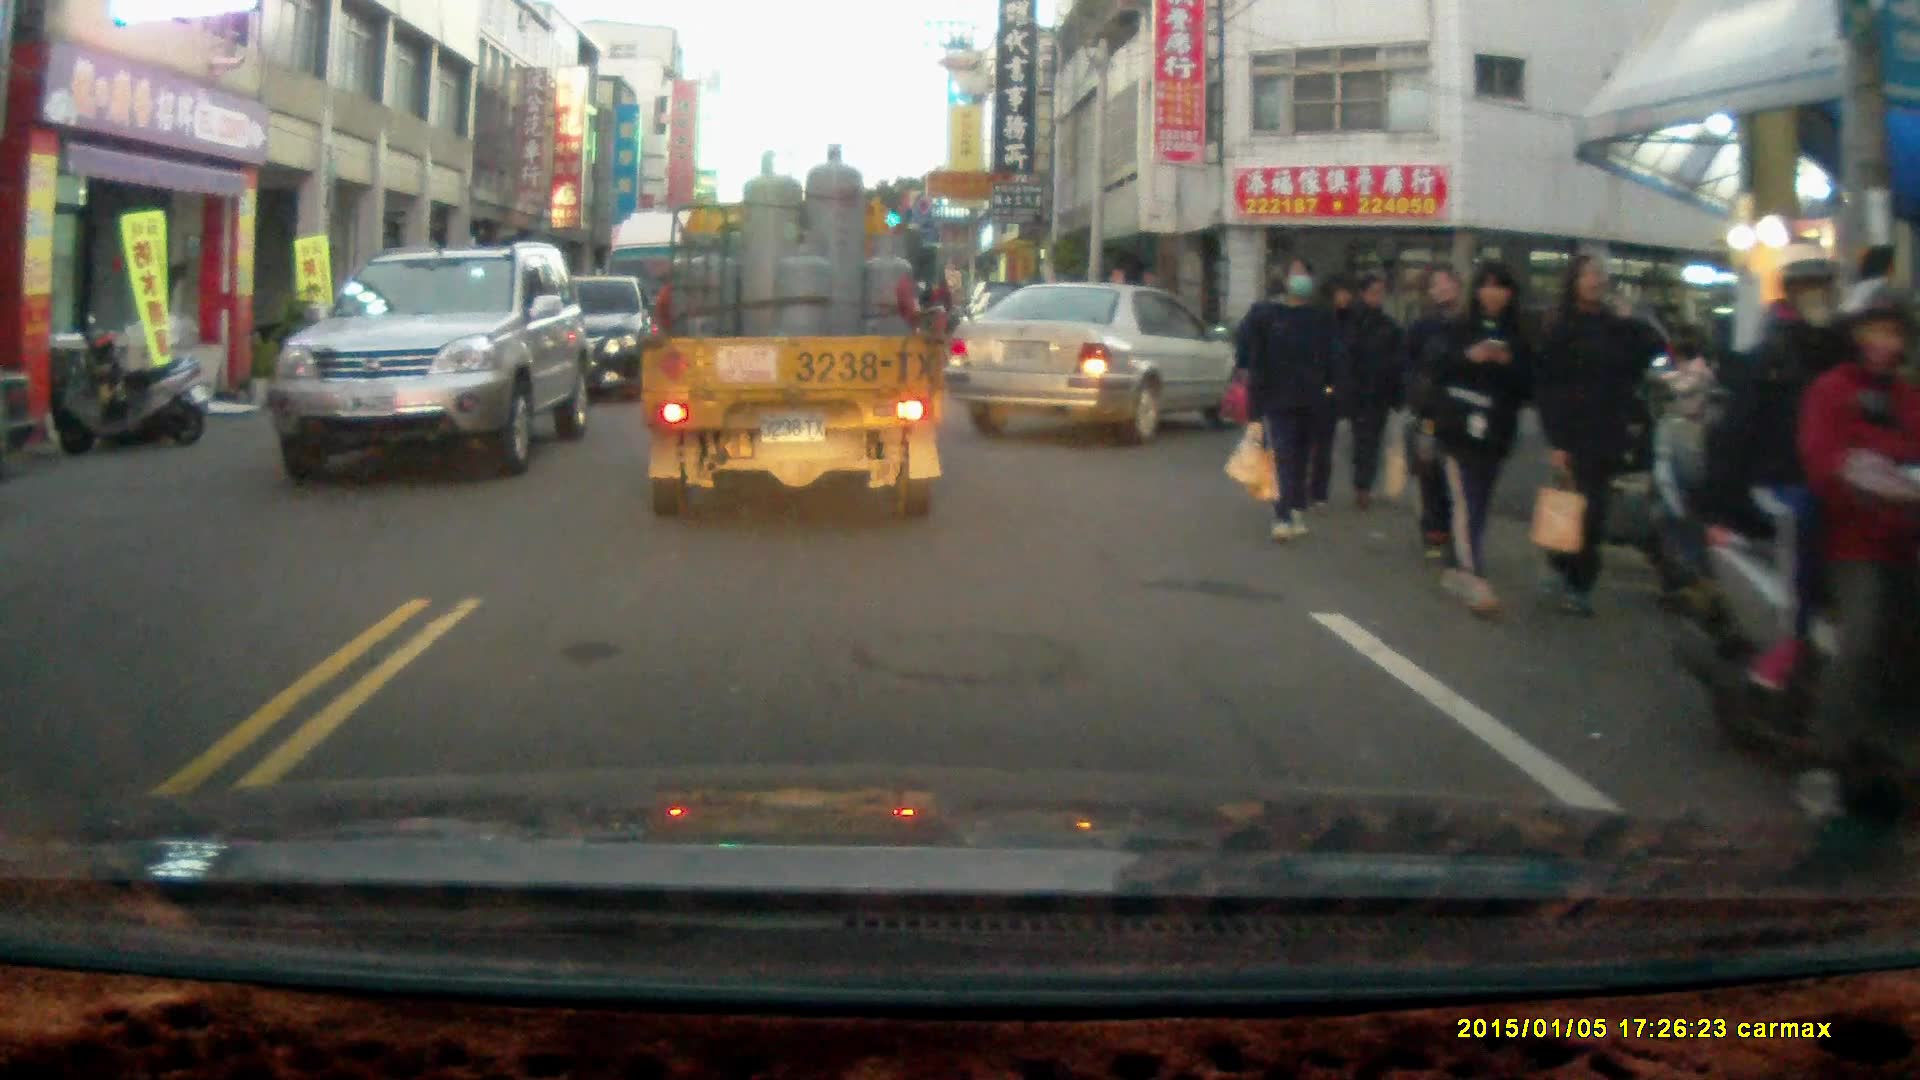pedestrian: (1536, 254, 1643, 624), (1430, 260, 1536, 626), (1244, 261, 1331, 550), (1332, 271, 1409, 515)
rider: (1673, 240, 1920, 825)
vehicle: (639, 144, 957, 525), (271, 244, 591, 487), (947, 281, 1267, 444), (480, 270, 664, 408)
